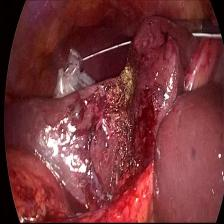Specimen Bag: (51, 38, 129, 99)
